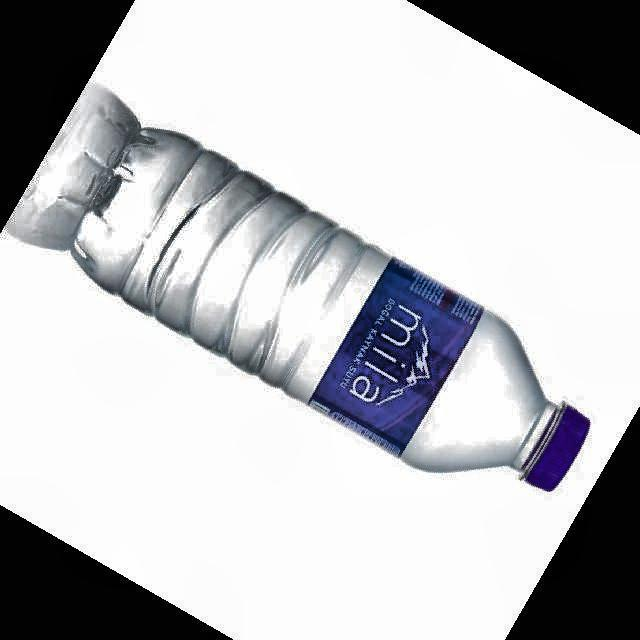plastic: (73, 129, 589, 491)
